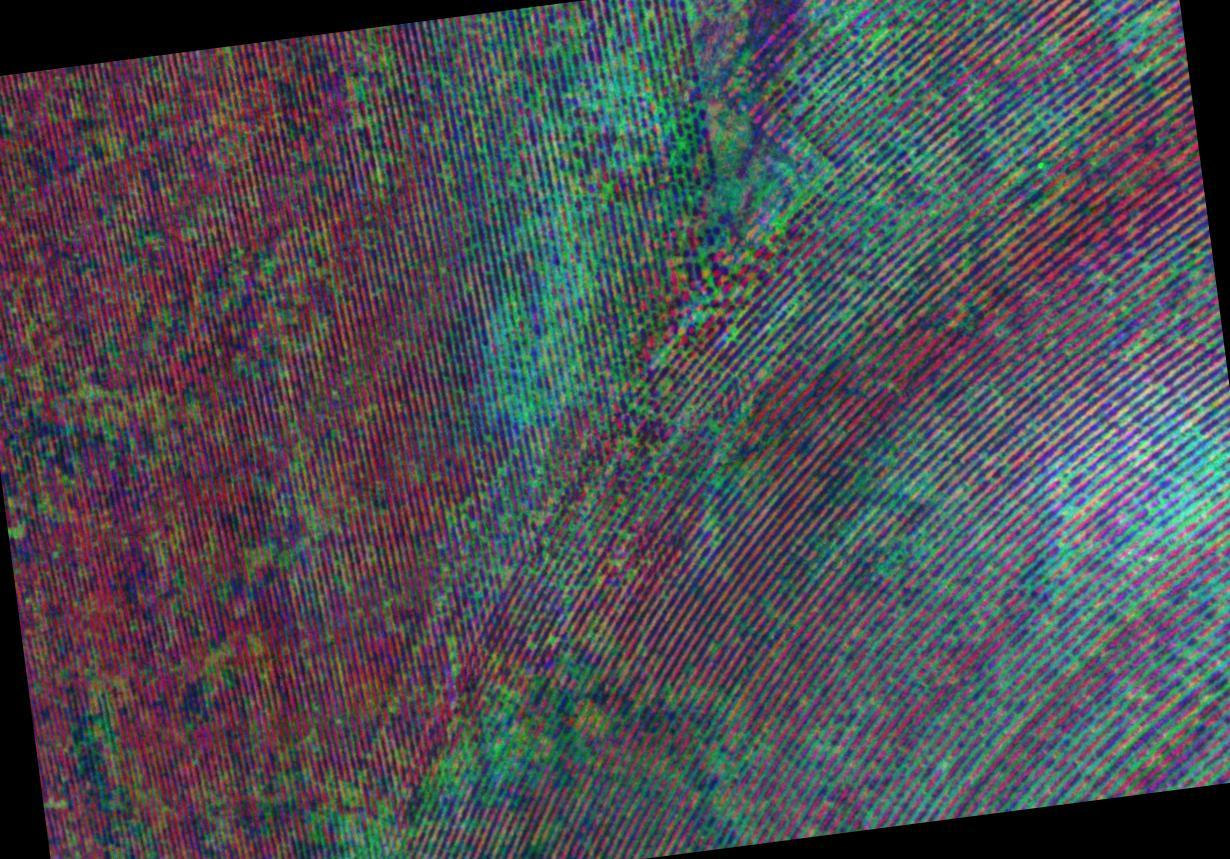dc: (496, 323, 588, 426), (1143, 438, 1230, 543), (321, 760, 411, 855), (511, 133, 589, 235), (443, 700, 526, 779), (778, 145, 842, 214)
